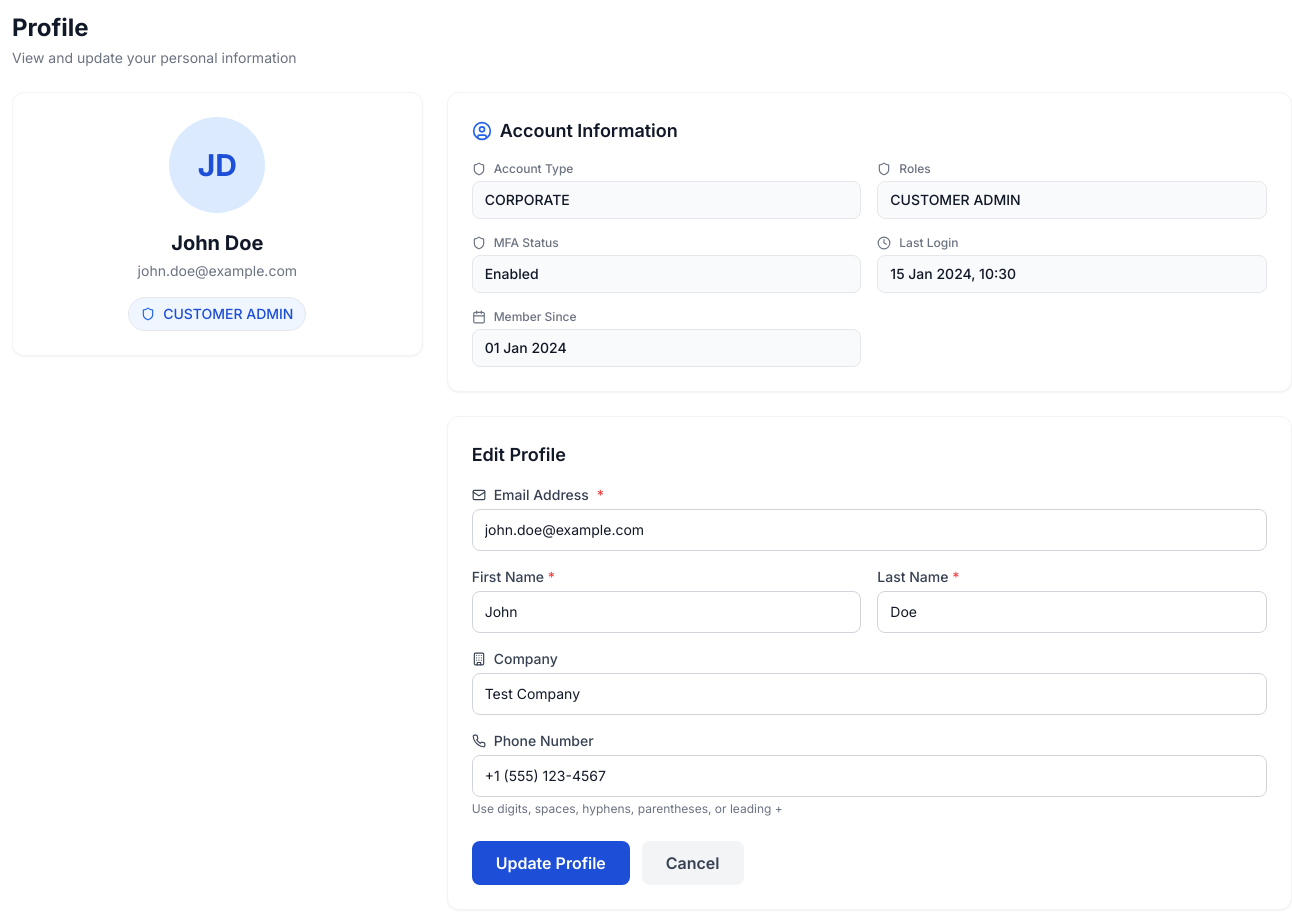
Test case: ProfileEditForm Validation › should display validation error when firstName is empty
Clear the firstName field
Clear the field with placeholder "John" below "First Name" at (667, 612), box left=472, top=591, right=861, bottom=633
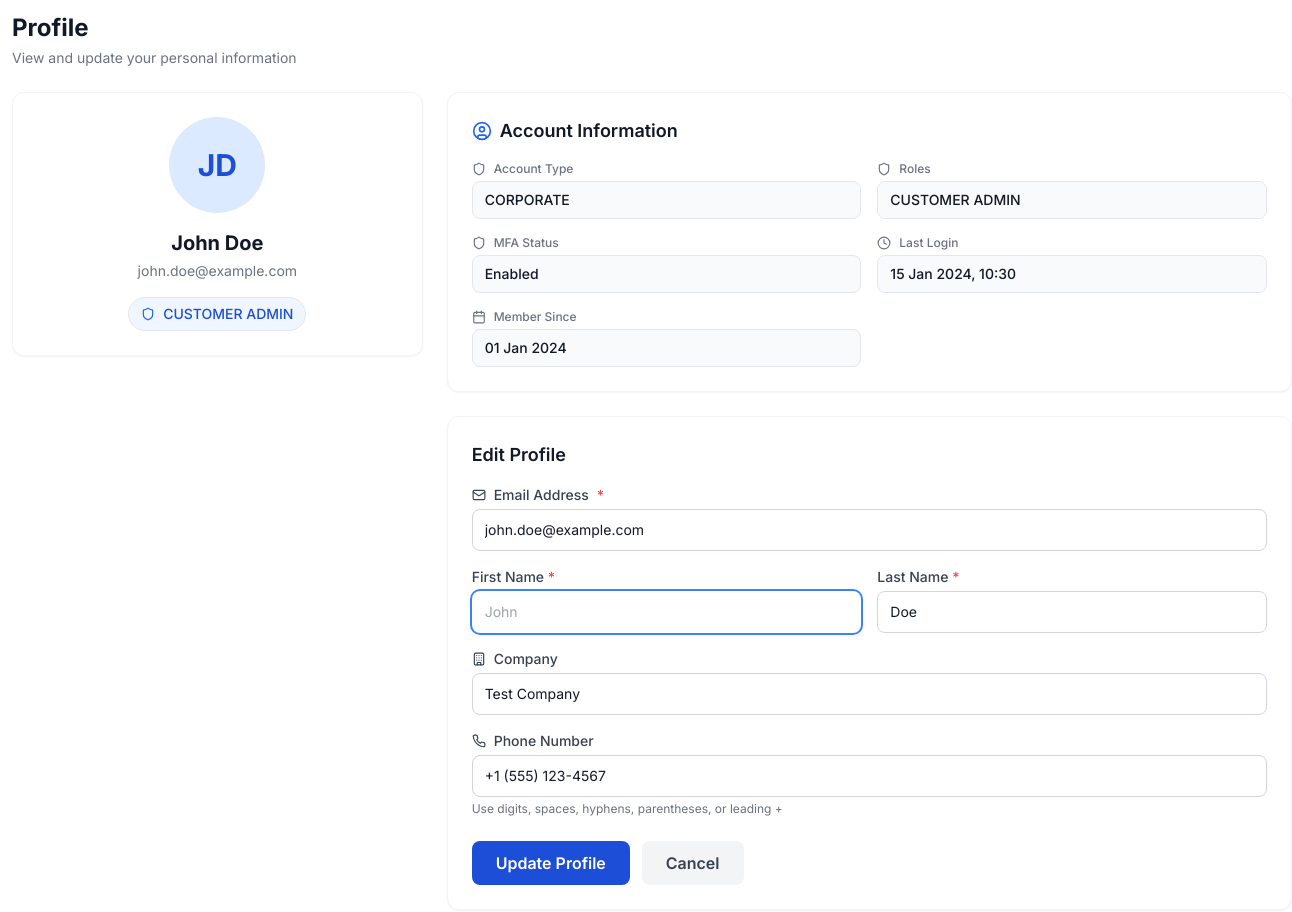
Submit the form
Click the button "Update Profile".
click(551, 863)  # box left=472, top=841, right=630, bottom=885
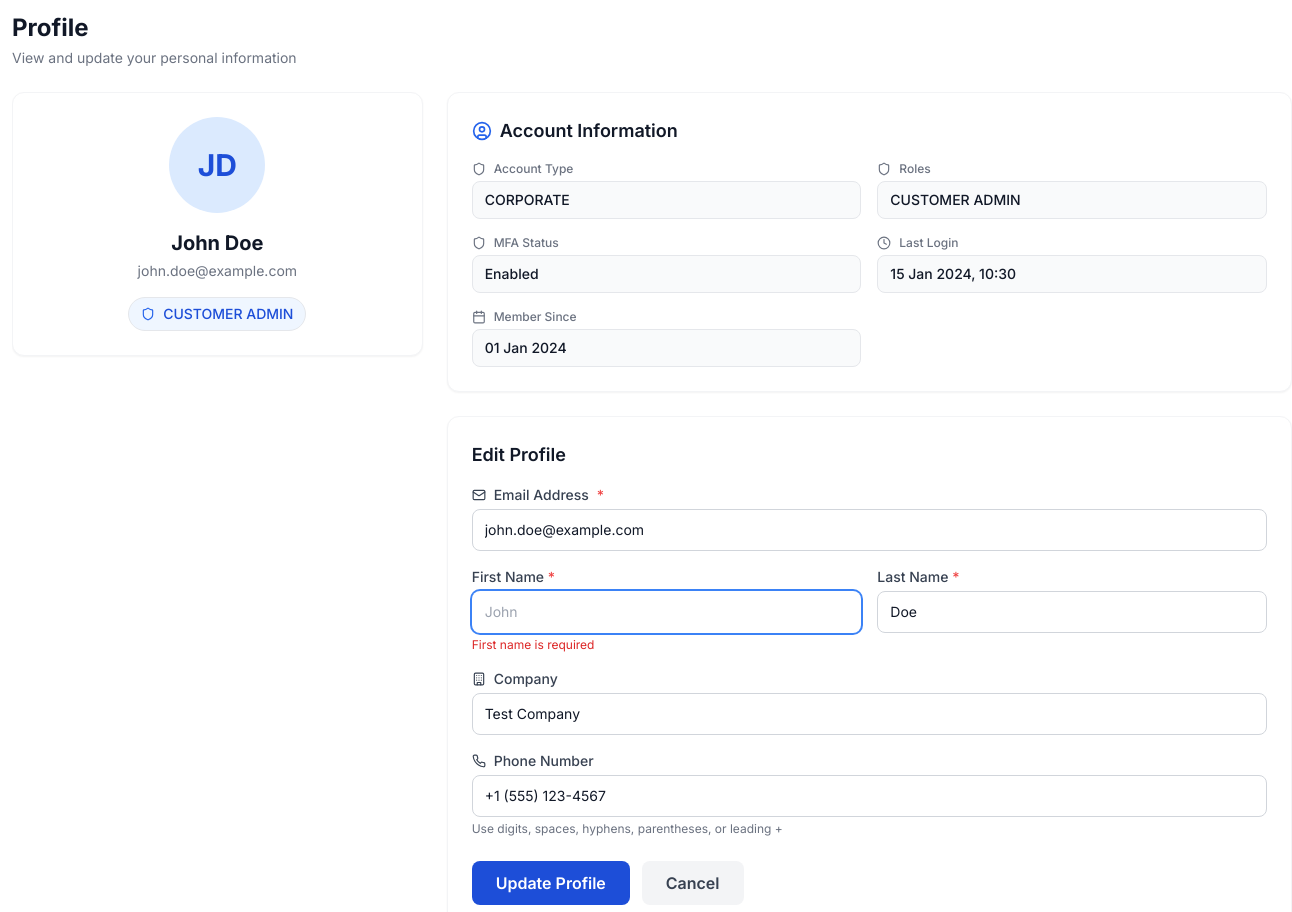
Now the text "First name is required" is shown, box left=472, top=637, right=594, bottom=652
